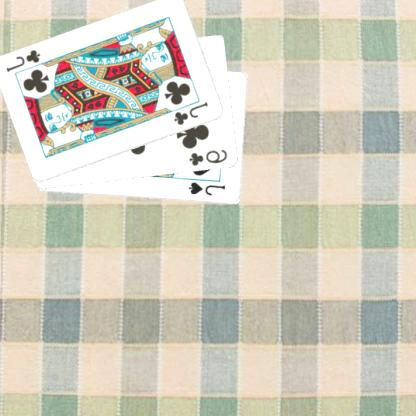6C: (189, 146, 231, 168)
JC: (174, 99, 212, 127), (5, 47, 44, 74)
JS: (188, 180, 228, 197)
